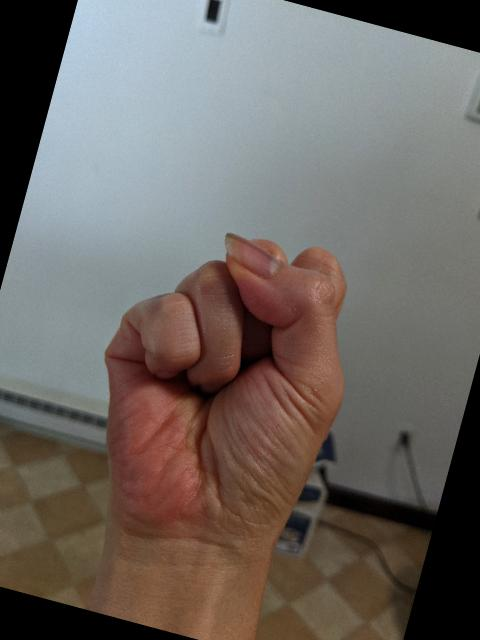S: (51, 194, 388, 590)
